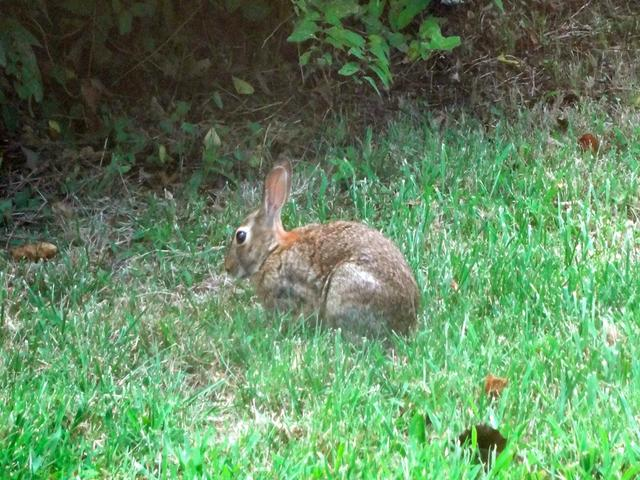rabbit: (139, 139, 493, 344)
